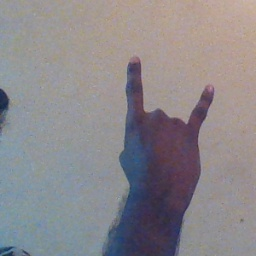V: (117, 53, 221, 187)
